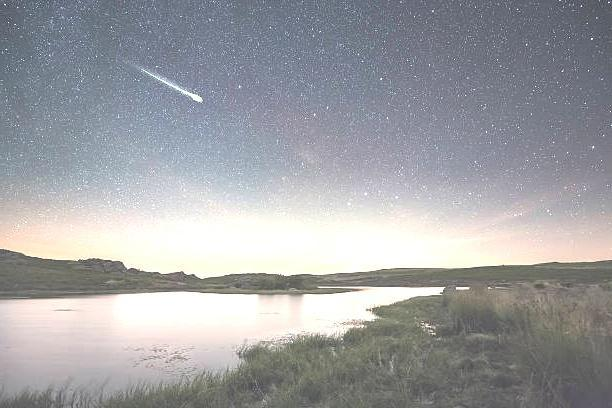meteorite: (125, 53, 200, 119)
